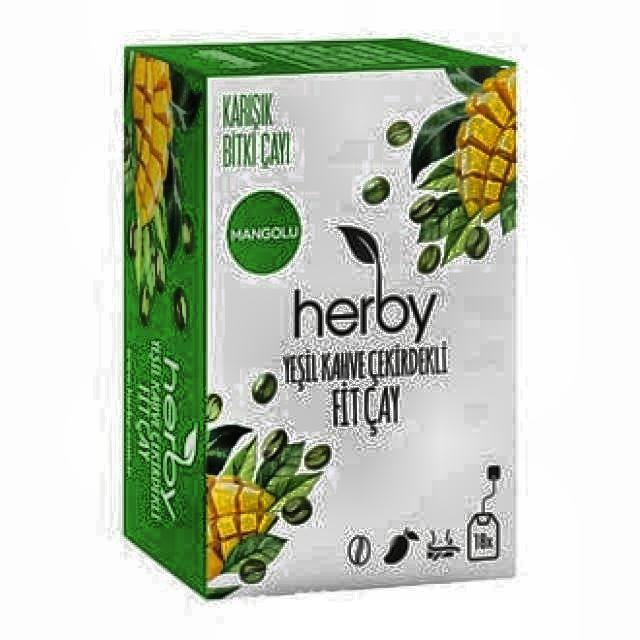cardboard: (121, 38, 518, 602)
